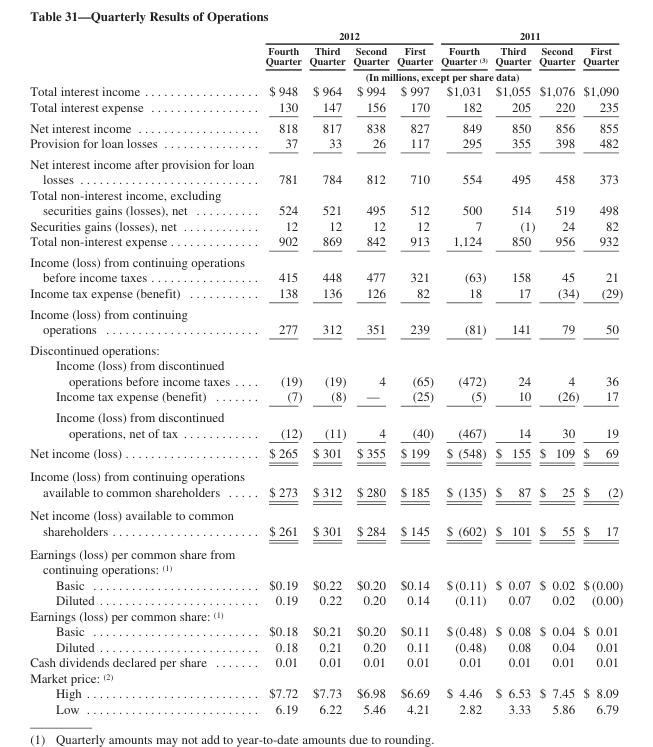table: (29, 28, 622, 715)
table column: (29, 28, 259, 715), (436, 28, 490, 715), (259, 28, 305, 715), (490, 28, 536, 715), (348, 28, 392, 715), (392, 28, 436, 715), (536, 28, 580, 715), (305, 28, 348, 715), (580, 28, 622, 715)
table column header: (29, 28, 622, 82)
table projected row header: (29, 541, 622, 576), (29, 339, 622, 357), (29, 607, 622, 623), (29, 669, 622, 685)
table row: (29, 464, 622, 503), (29, 503, 622, 541), (29, 302, 622, 339), (29, 406, 622, 442), (29, 541, 622, 576), (29, 153, 622, 186), (29, 251, 622, 284), (29, 186, 622, 217), (29, 357, 622, 388), (29, 42, 622, 68), (29, 442, 622, 464), (29, 134, 622, 153), (29, 98, 622, 116), (29, 116, 622, 134), (29, 233, 622, 251), (29, 284, 622, 302), (29, 339, 622, 357), (29, 388, 622, 406), (29, 82, 622, 98), (29, 217, 622, 233), (29, 576, 622, 592), (29, 607, 622, 623), (29, 638, 622, 654), (29, 669, 622, 685), (29, 592, 622, 607), (29, 623, 622, 638), (29, 654, 622, 669), (29, 685, 622, 700), (29, 700, 622, 715), (29, 28, 622, 42), (29, 68, 622, 82)
table spanning cell: (259, 68, 622, 82), (436, 28, 622, 42), (259, 28, 436, 42)
